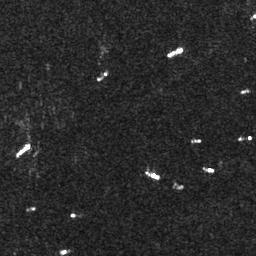ship: (143, 168, 161, 181), (16, 143, 31, 158), (167, 47, 183, 58), (237, 134, 253, 142), (58, 247, 71, 255), (203, 165, 214, 174), (240, 87, 250, 96), (191, 137, 202, 144)
